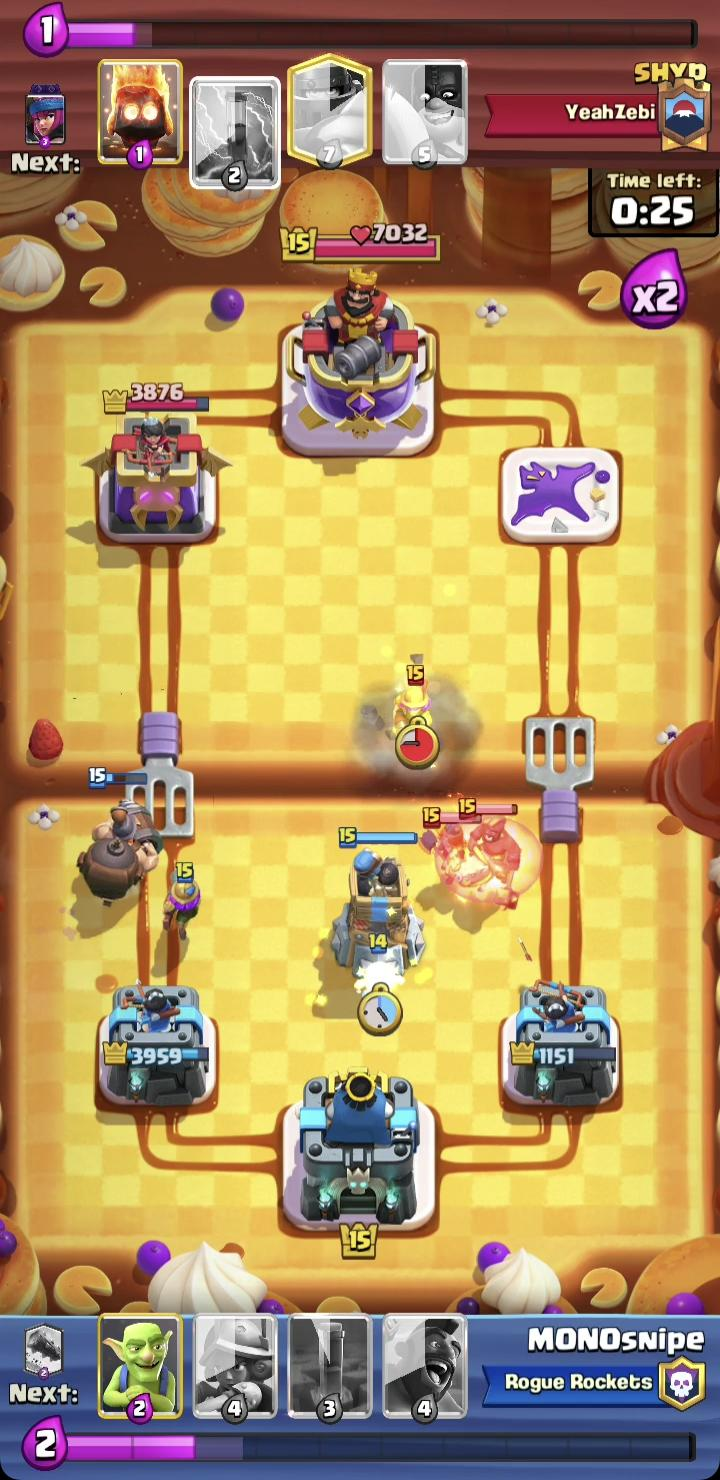ally_bombtower: (331, 824, 428, 986)
ally_ice_spirit: (346, 931, 417, 1008)
ally_mightyminer: (70, 768, 169, 904)
ally_musketeer: (158, 861, 202, 946)
enemy_hog: (452, 793, 530, 912)
enemy_musketeer: (387, 662, 440, 748)
enemy_valkyrie: (417, 807, 490, 881)
